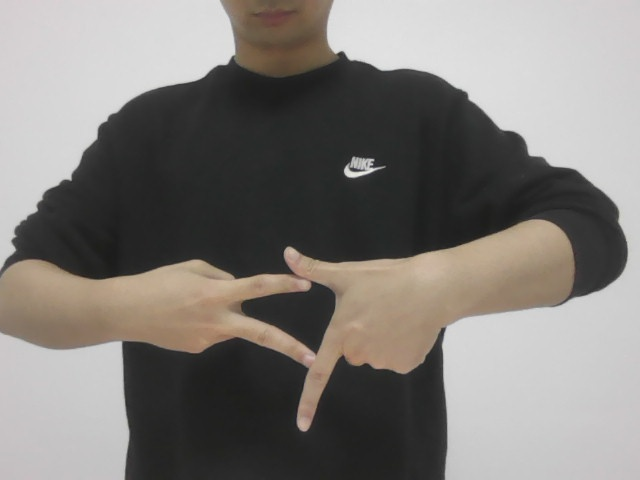introduce: (133, 238, 441, 445)
